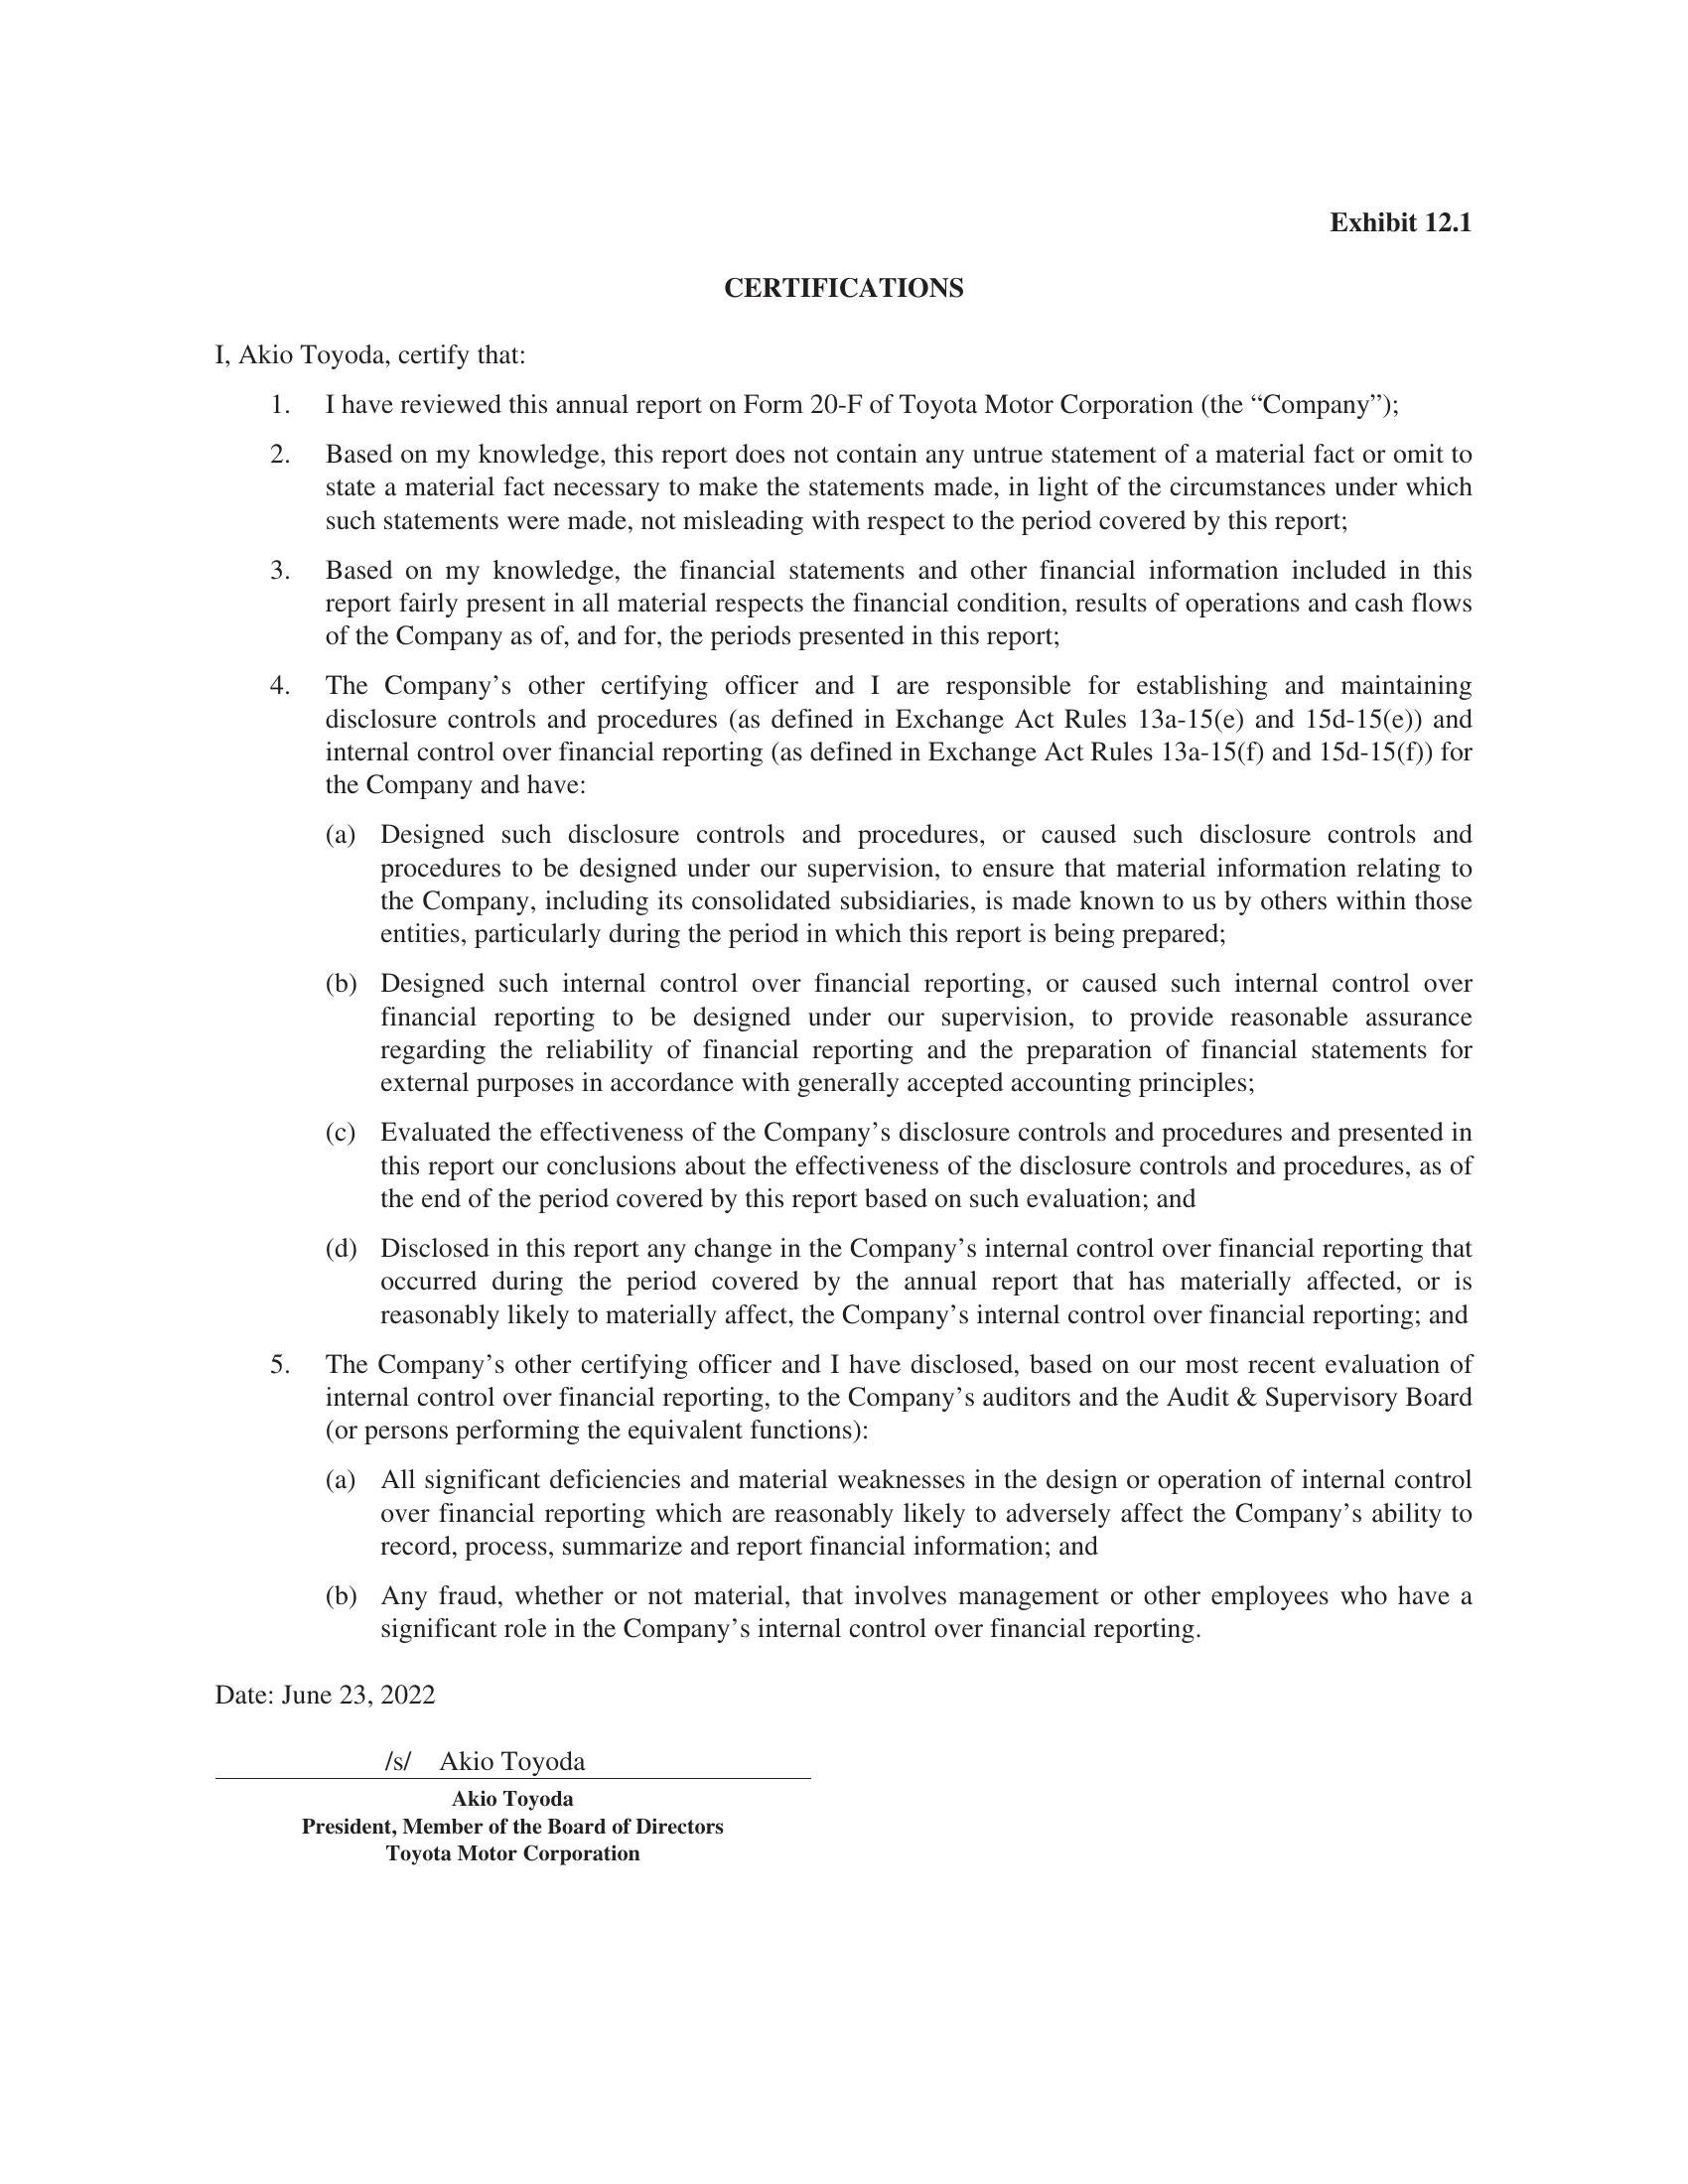Footer: (0, 1971, 1688, 2184)
Header: (0, 0, 1688, 195)
